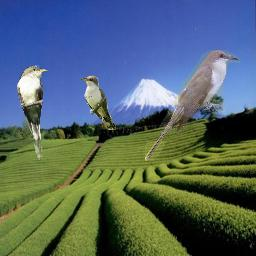Cuckoo: (145, 50, 240, 161), (17, 65, 48, 161), (81, 75, 116, 130)
